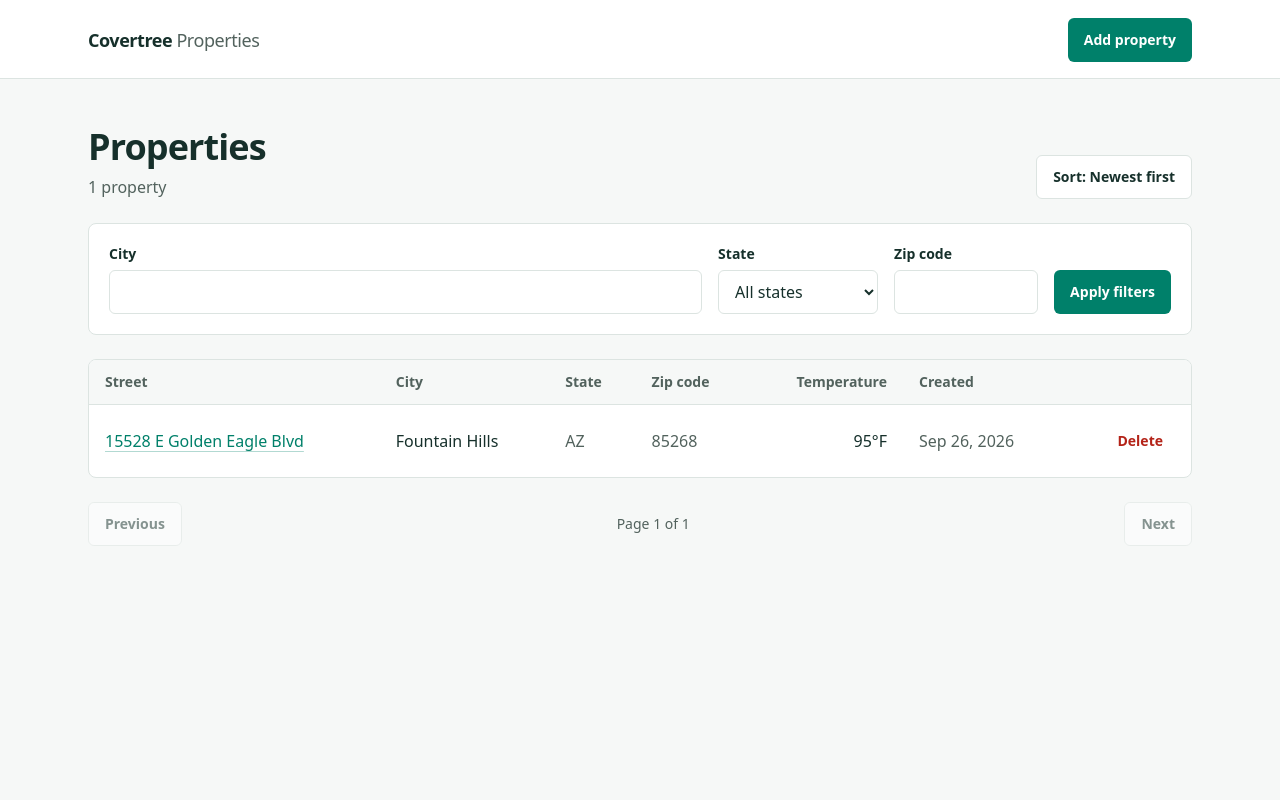
PropertyListPage › delete (AC-W.6) › does nothing when the confirmation is cancelled
Click the button with aria-label "Delete 15528 E Golden Eagle Blvd". click: (1140, 441)
box: [1106, 421, 1175, 461]
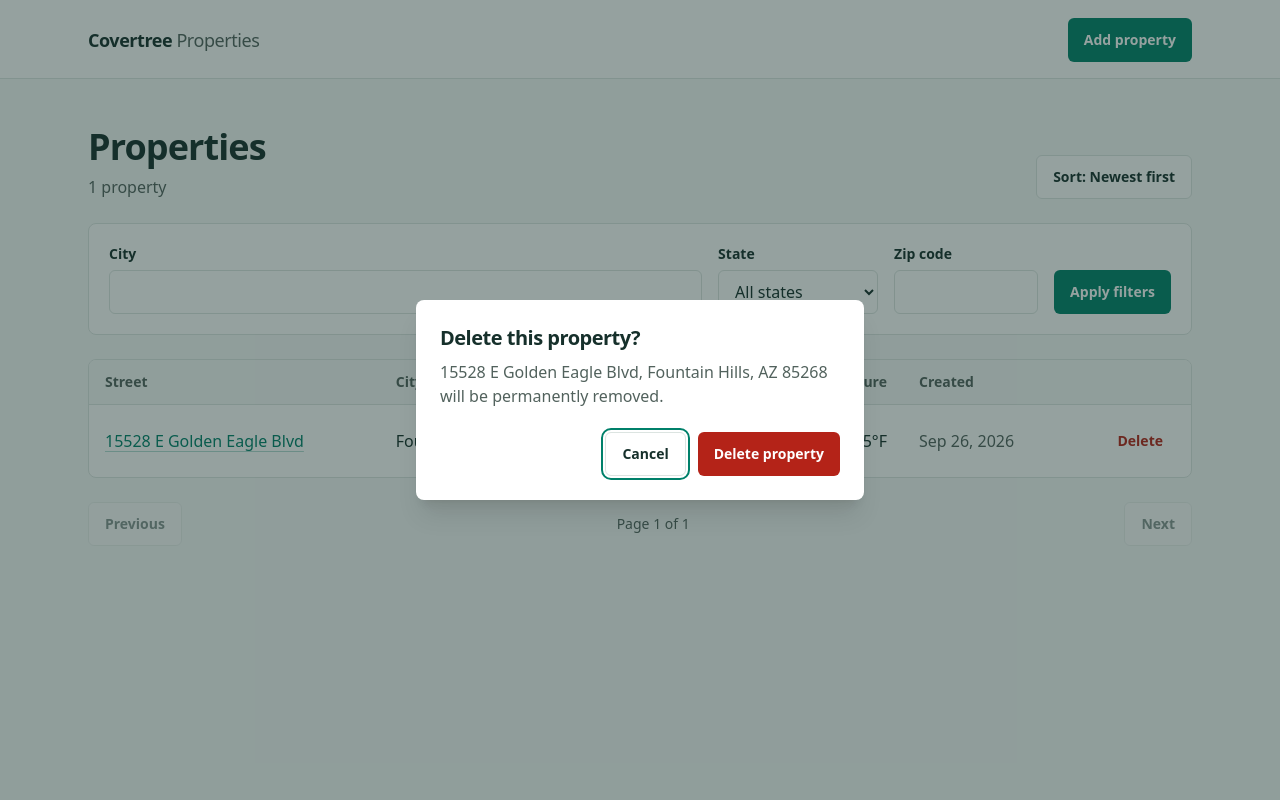
Click the button "Cancel". click: (646, 454)
box: [605, 432, 686, 476]
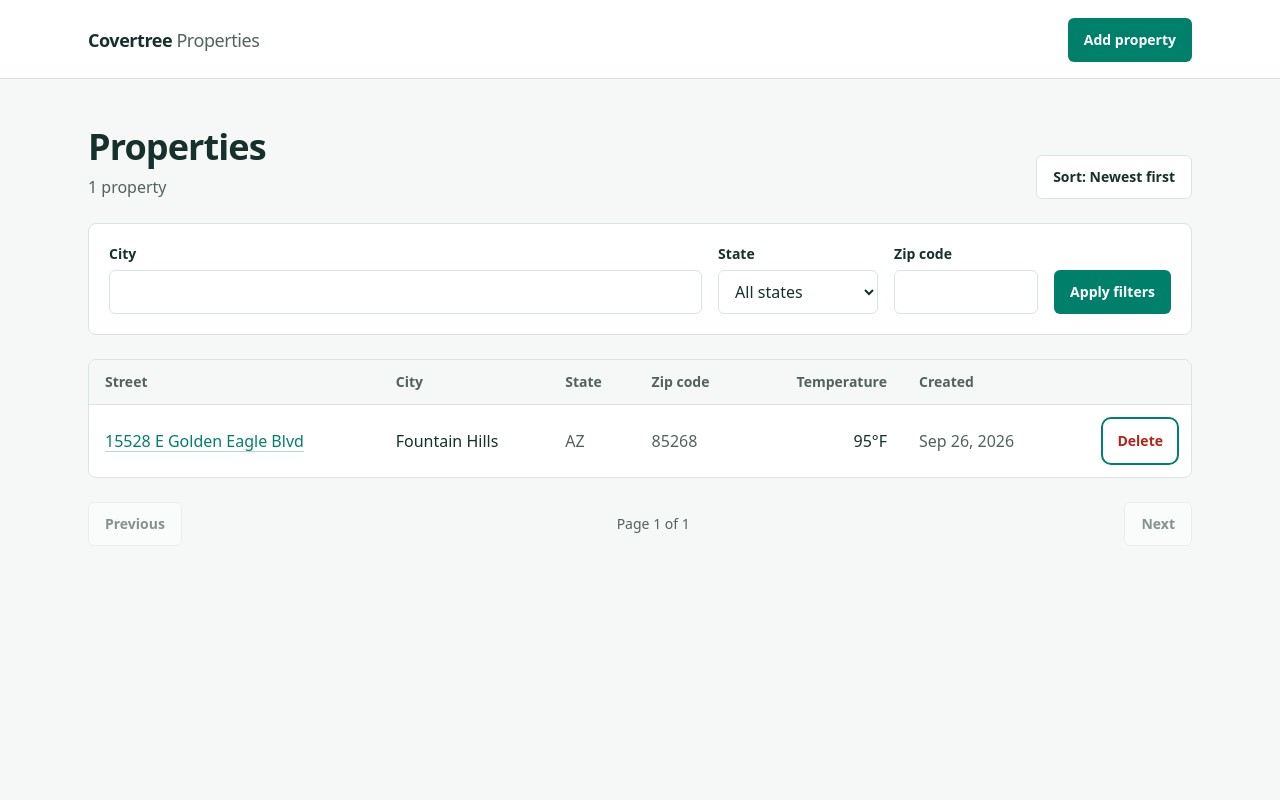
Expected: the link "15528 E Golden Eagle Blvd" is shown, [105, 430, 304, 452]
Result: the dialog is gone
